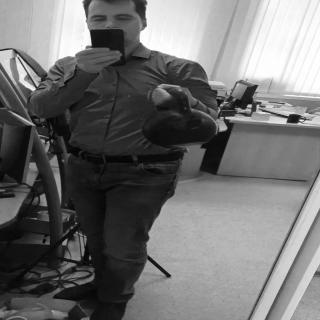kettlebell: (143, 87, 225, 149)
